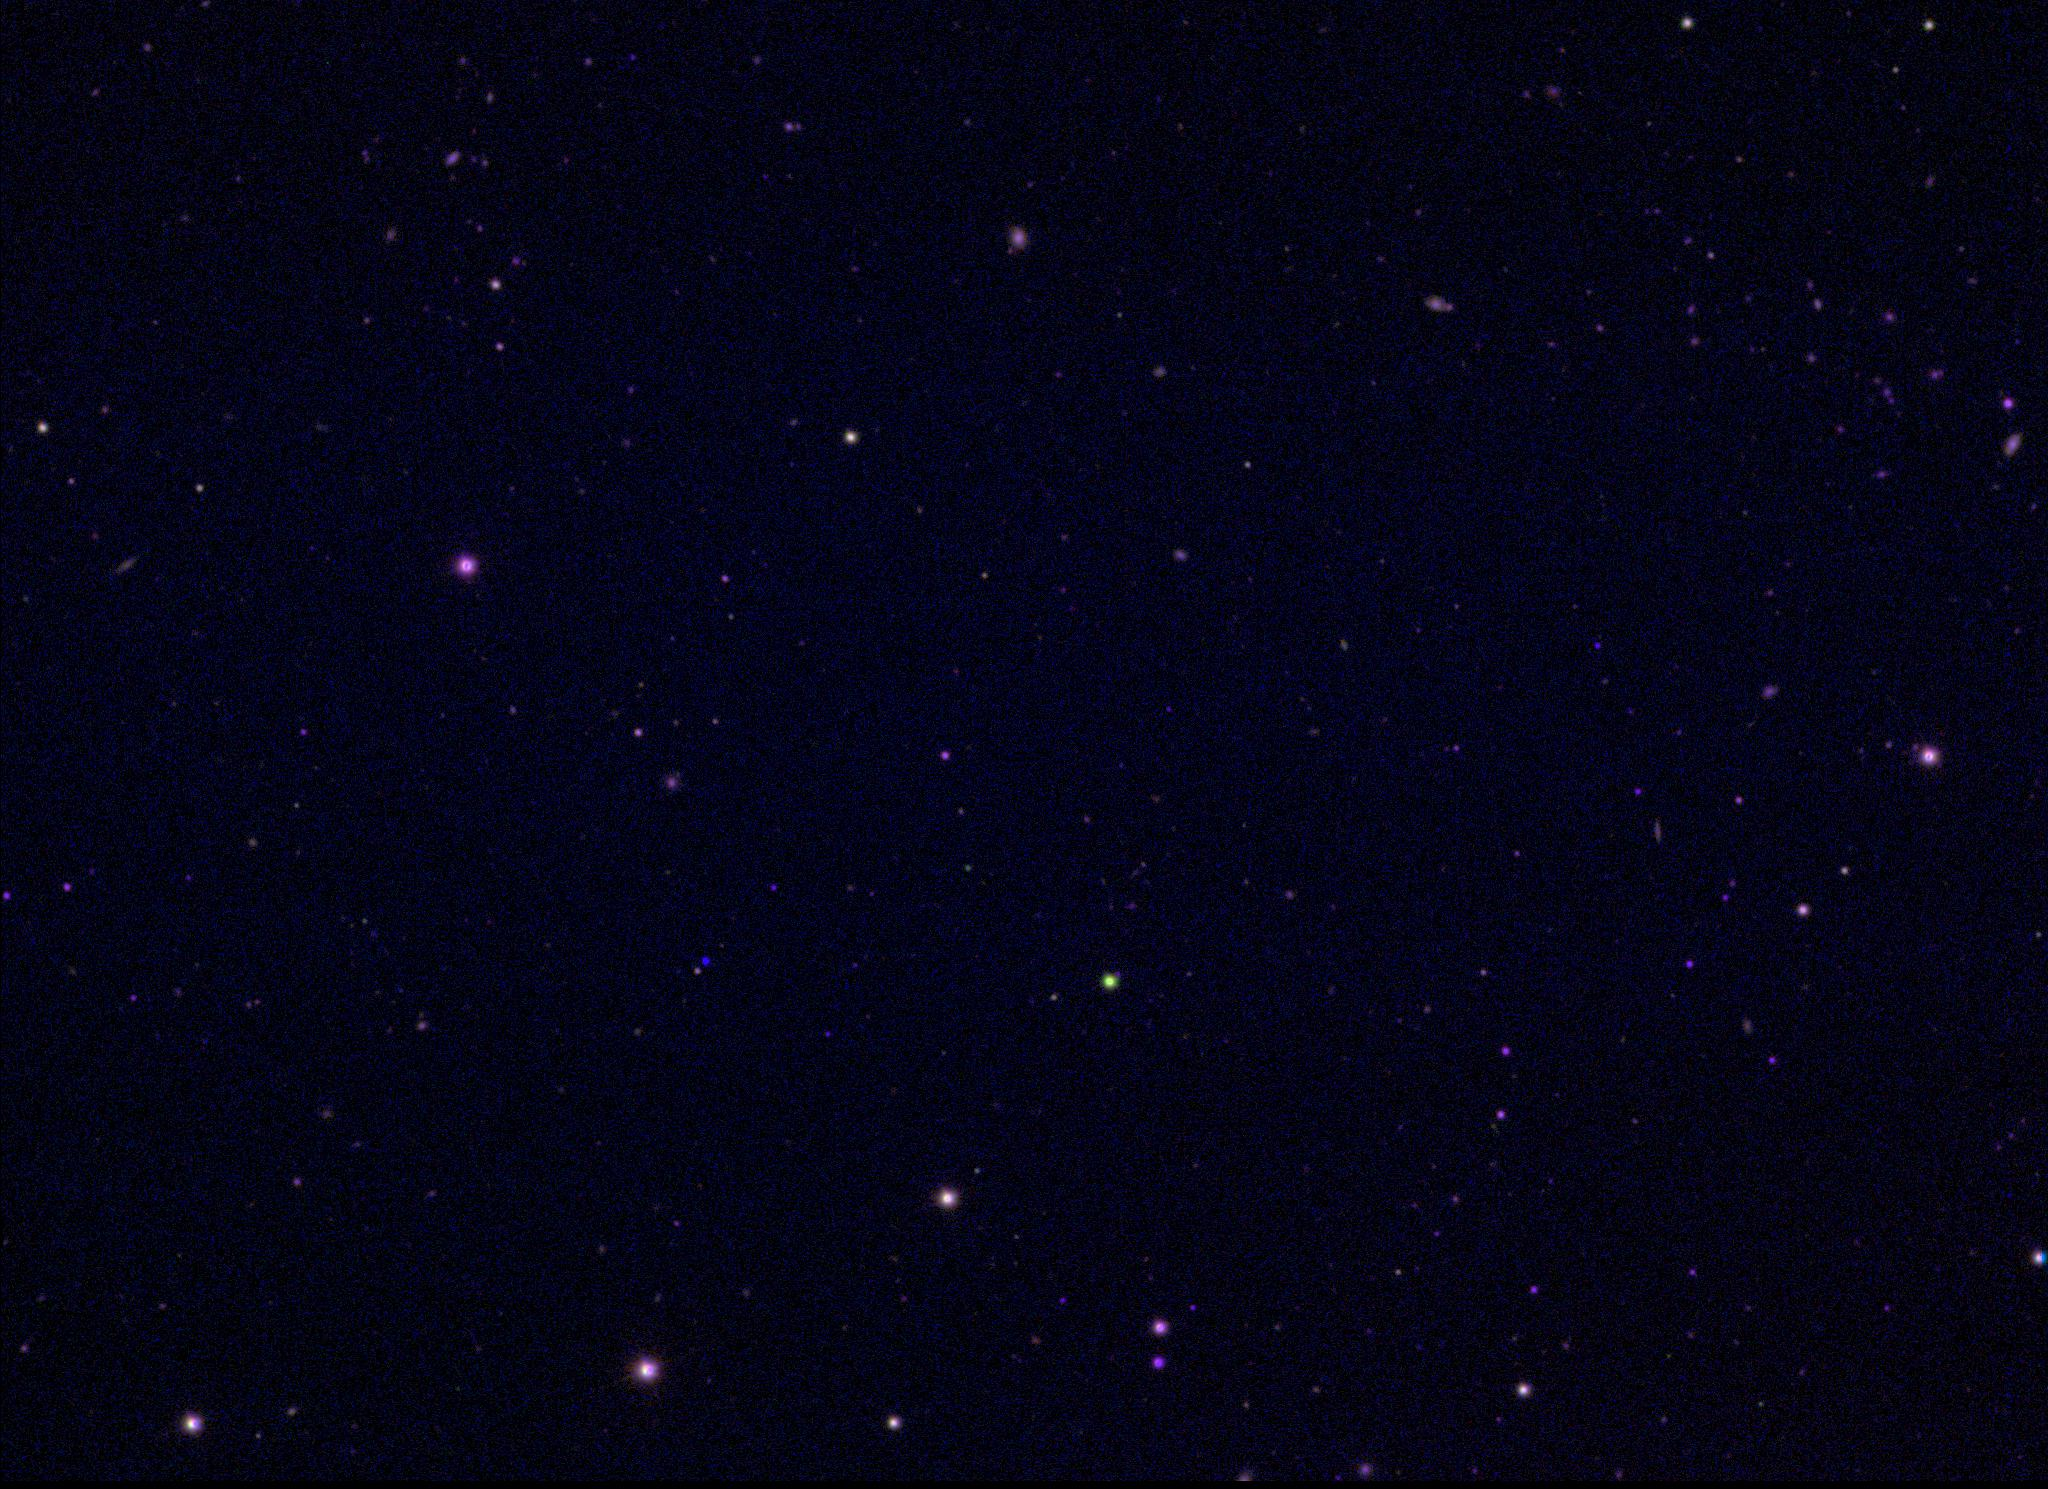L: (698, 958, 712, 970)
